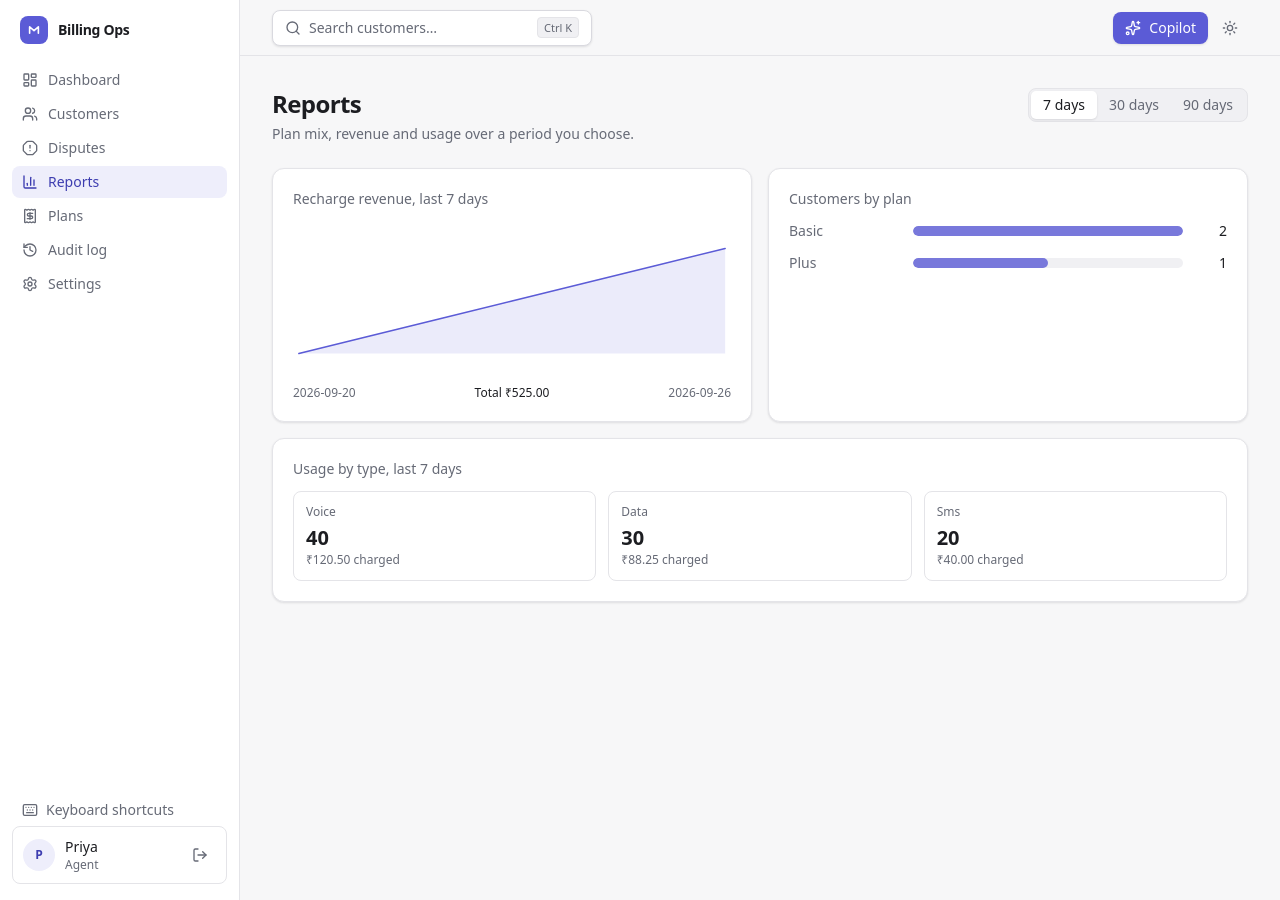
it: Reports page › shows the revenue trend and plan mix, and switches period
The image size is (1280, 900).
Expected: the element with test id "revenue-trend" shows "2026-09-2", x1=293 y1=384 x2=356 y2=401
Expected: the element with test id "plan-distribution" shows "Basic", x1=789 y1=221 x2=823 y2=240
Click the radio button with test id "reports-period-30": click(1134, 105) x1=1097 y1=91 x2=1171 y2=119
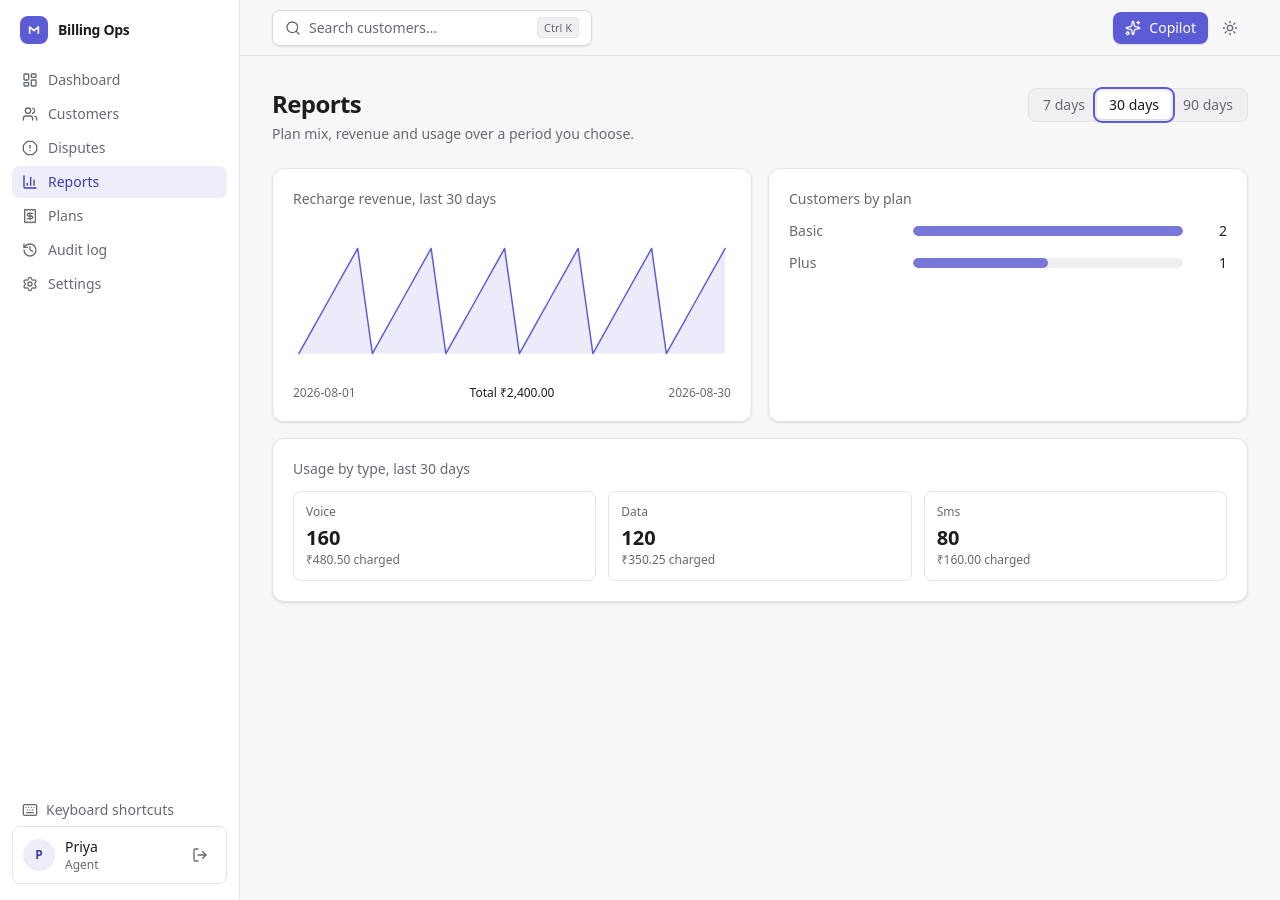
Expected: the element with test id "revenue-trend" shows "2026-08-01", x1=293 y1=384 x2=356 y2=401
